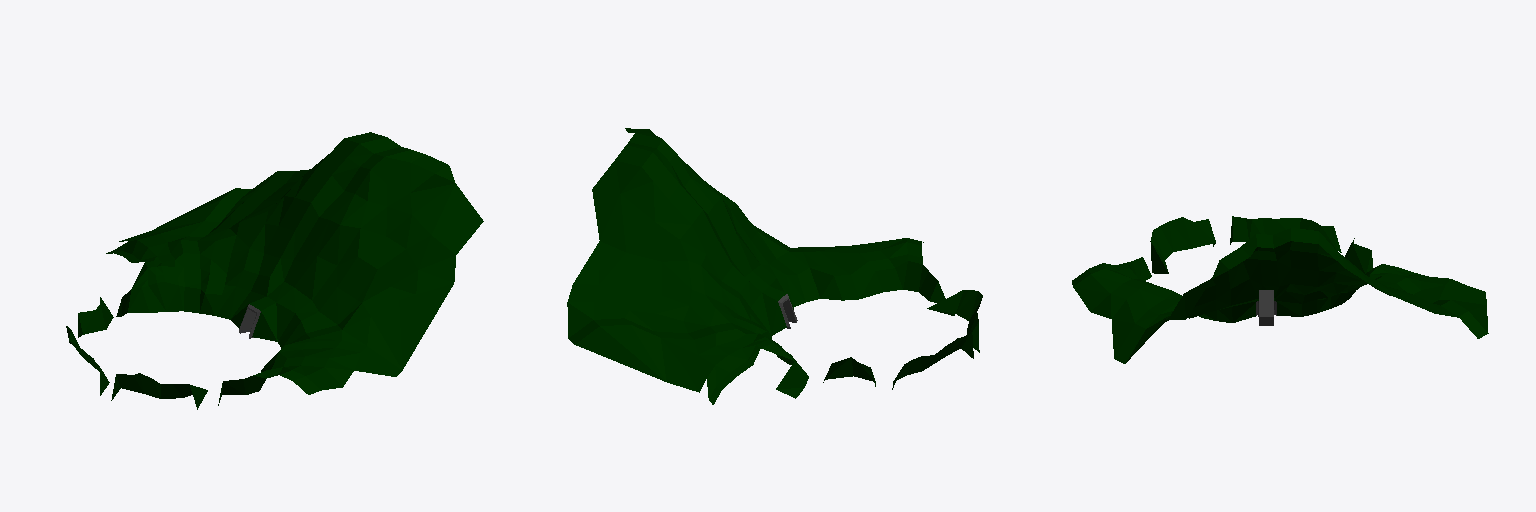
The model's file is test_mountain_terrain.obj.
3 views of the same model, side by side, from view 1: azimuth 30°, elevation 25°; view 2: azimuth 150°, elevation 25°; view 3: azimuth 270°, elevation 25° (orthographic).
Parts seen in each view (by area): view 1: Grid_Grid.001; view 2: Grid_Grid.001; view 3: Grid_Grid.001.
Part boxes in pixels (x1,y1,x2,y2): Grid_Grid.001: (66,132,483,409); Grid_Grid.001: (567,128,982,404); Grid_Grid.001: (1072,216,1488,363).
Bounding box in the file's own units: 239 × 103 × 239.